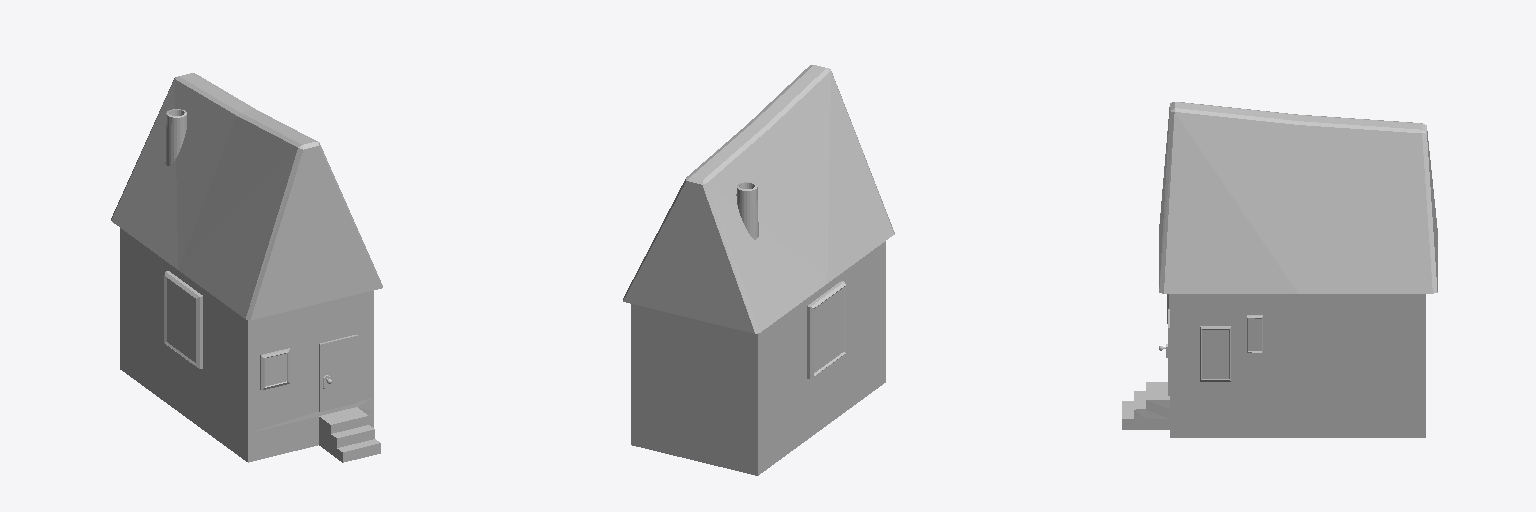
File: new_house_model1.obj
3 views of the same model, side by side, from view 1: azimuth 30°, elevation 25°; view 2: azimuth 150°, elevation 25°; view 3: azimuth 270°, elevation 25° (orthographic).
Visible parts, largest first — view 1: roof; view 2: roof; view 3: roof.
Boxes of the visible parts, x1=… form: roof: x1=111, y1=73, x2=382, y2=462; roof: x1=623, y1=65, x2=894, y2=475; roof: x1=1122, y1=102, x2=1437, y2=437.
Bounding box in the file's own units: 55.92 × 117 × 111.